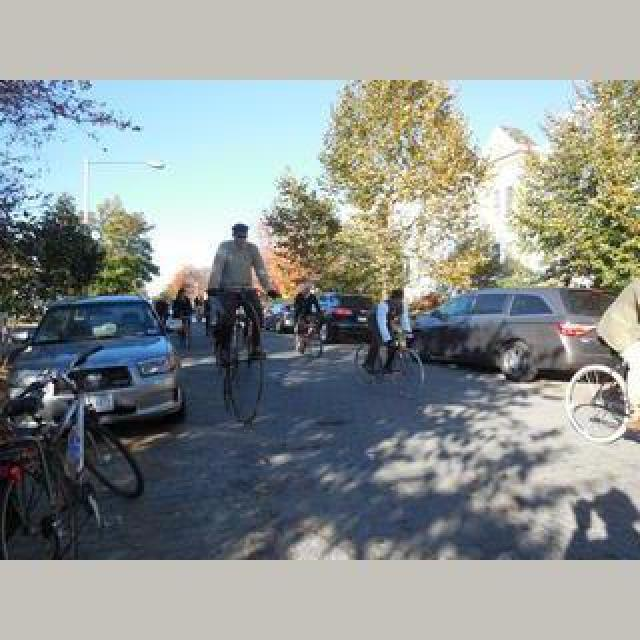Bus-Bike: (4, 294, 186, 430), (406, 290, 618, 382), (320, 294, 374, 342), (264, 300, 290, 332)
MC-Bike: (204, 222, 280, 374), (372, 288, 416, 370), (292, 282, 324, 350)
Person: (0, 356, 144, 548), (566, 348, 640, 446), (212, 298, 262, 426), (354, 334, 426, 398)
